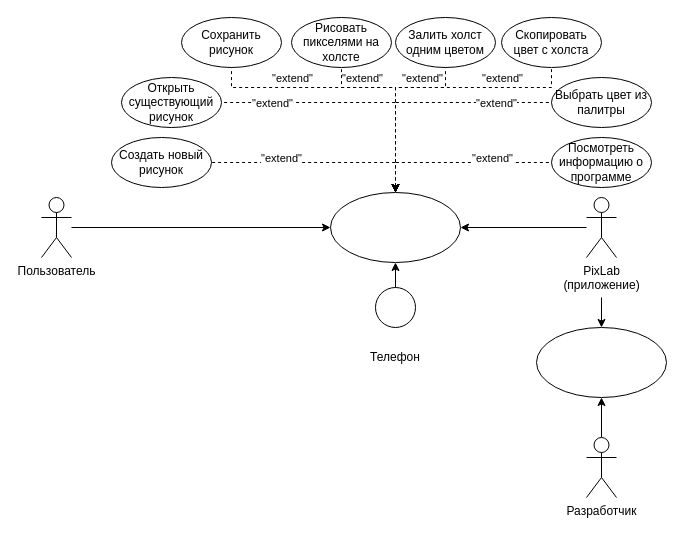
Some shapes in this 684 by 536 pixel diagram are drawn without their labels. The shapes that lost their labels are listed below. From the top down, each one's centre as x and y in pixels, then its label:
At [395,227]: "Взаимодействовать с программой на уровне пользователя".
At [601,362]: "Взаимодействовать с программой на уровне разработчика".
